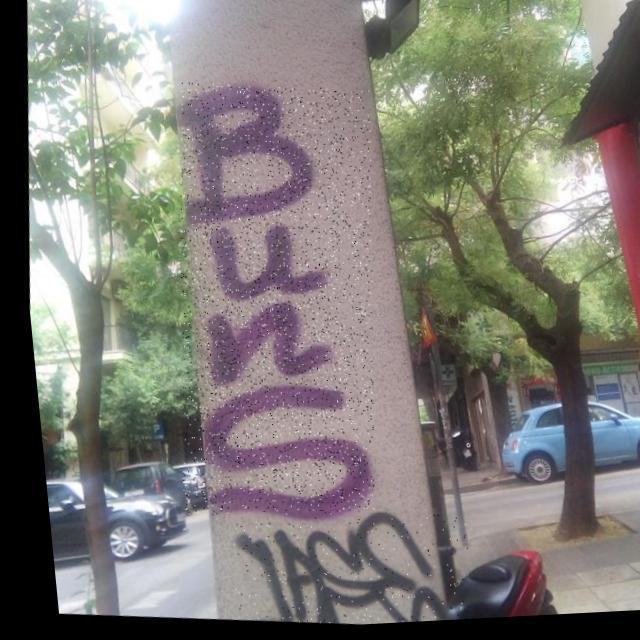-: (140, 76, 400, 532), (212, 500, 463, 633)
